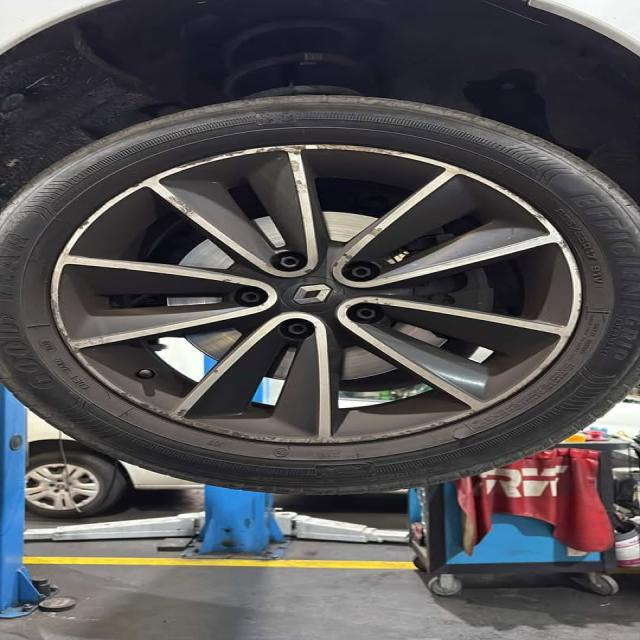jante: (46, 142, 586, 447)
parafuso: (273, 252, 305, 272), (346, 264, 377, 281), (349, 307, 380, 322), (283, 322, 310, 337), (239, 289, 263, 305)
roda: (0, 95, 640, 495)
